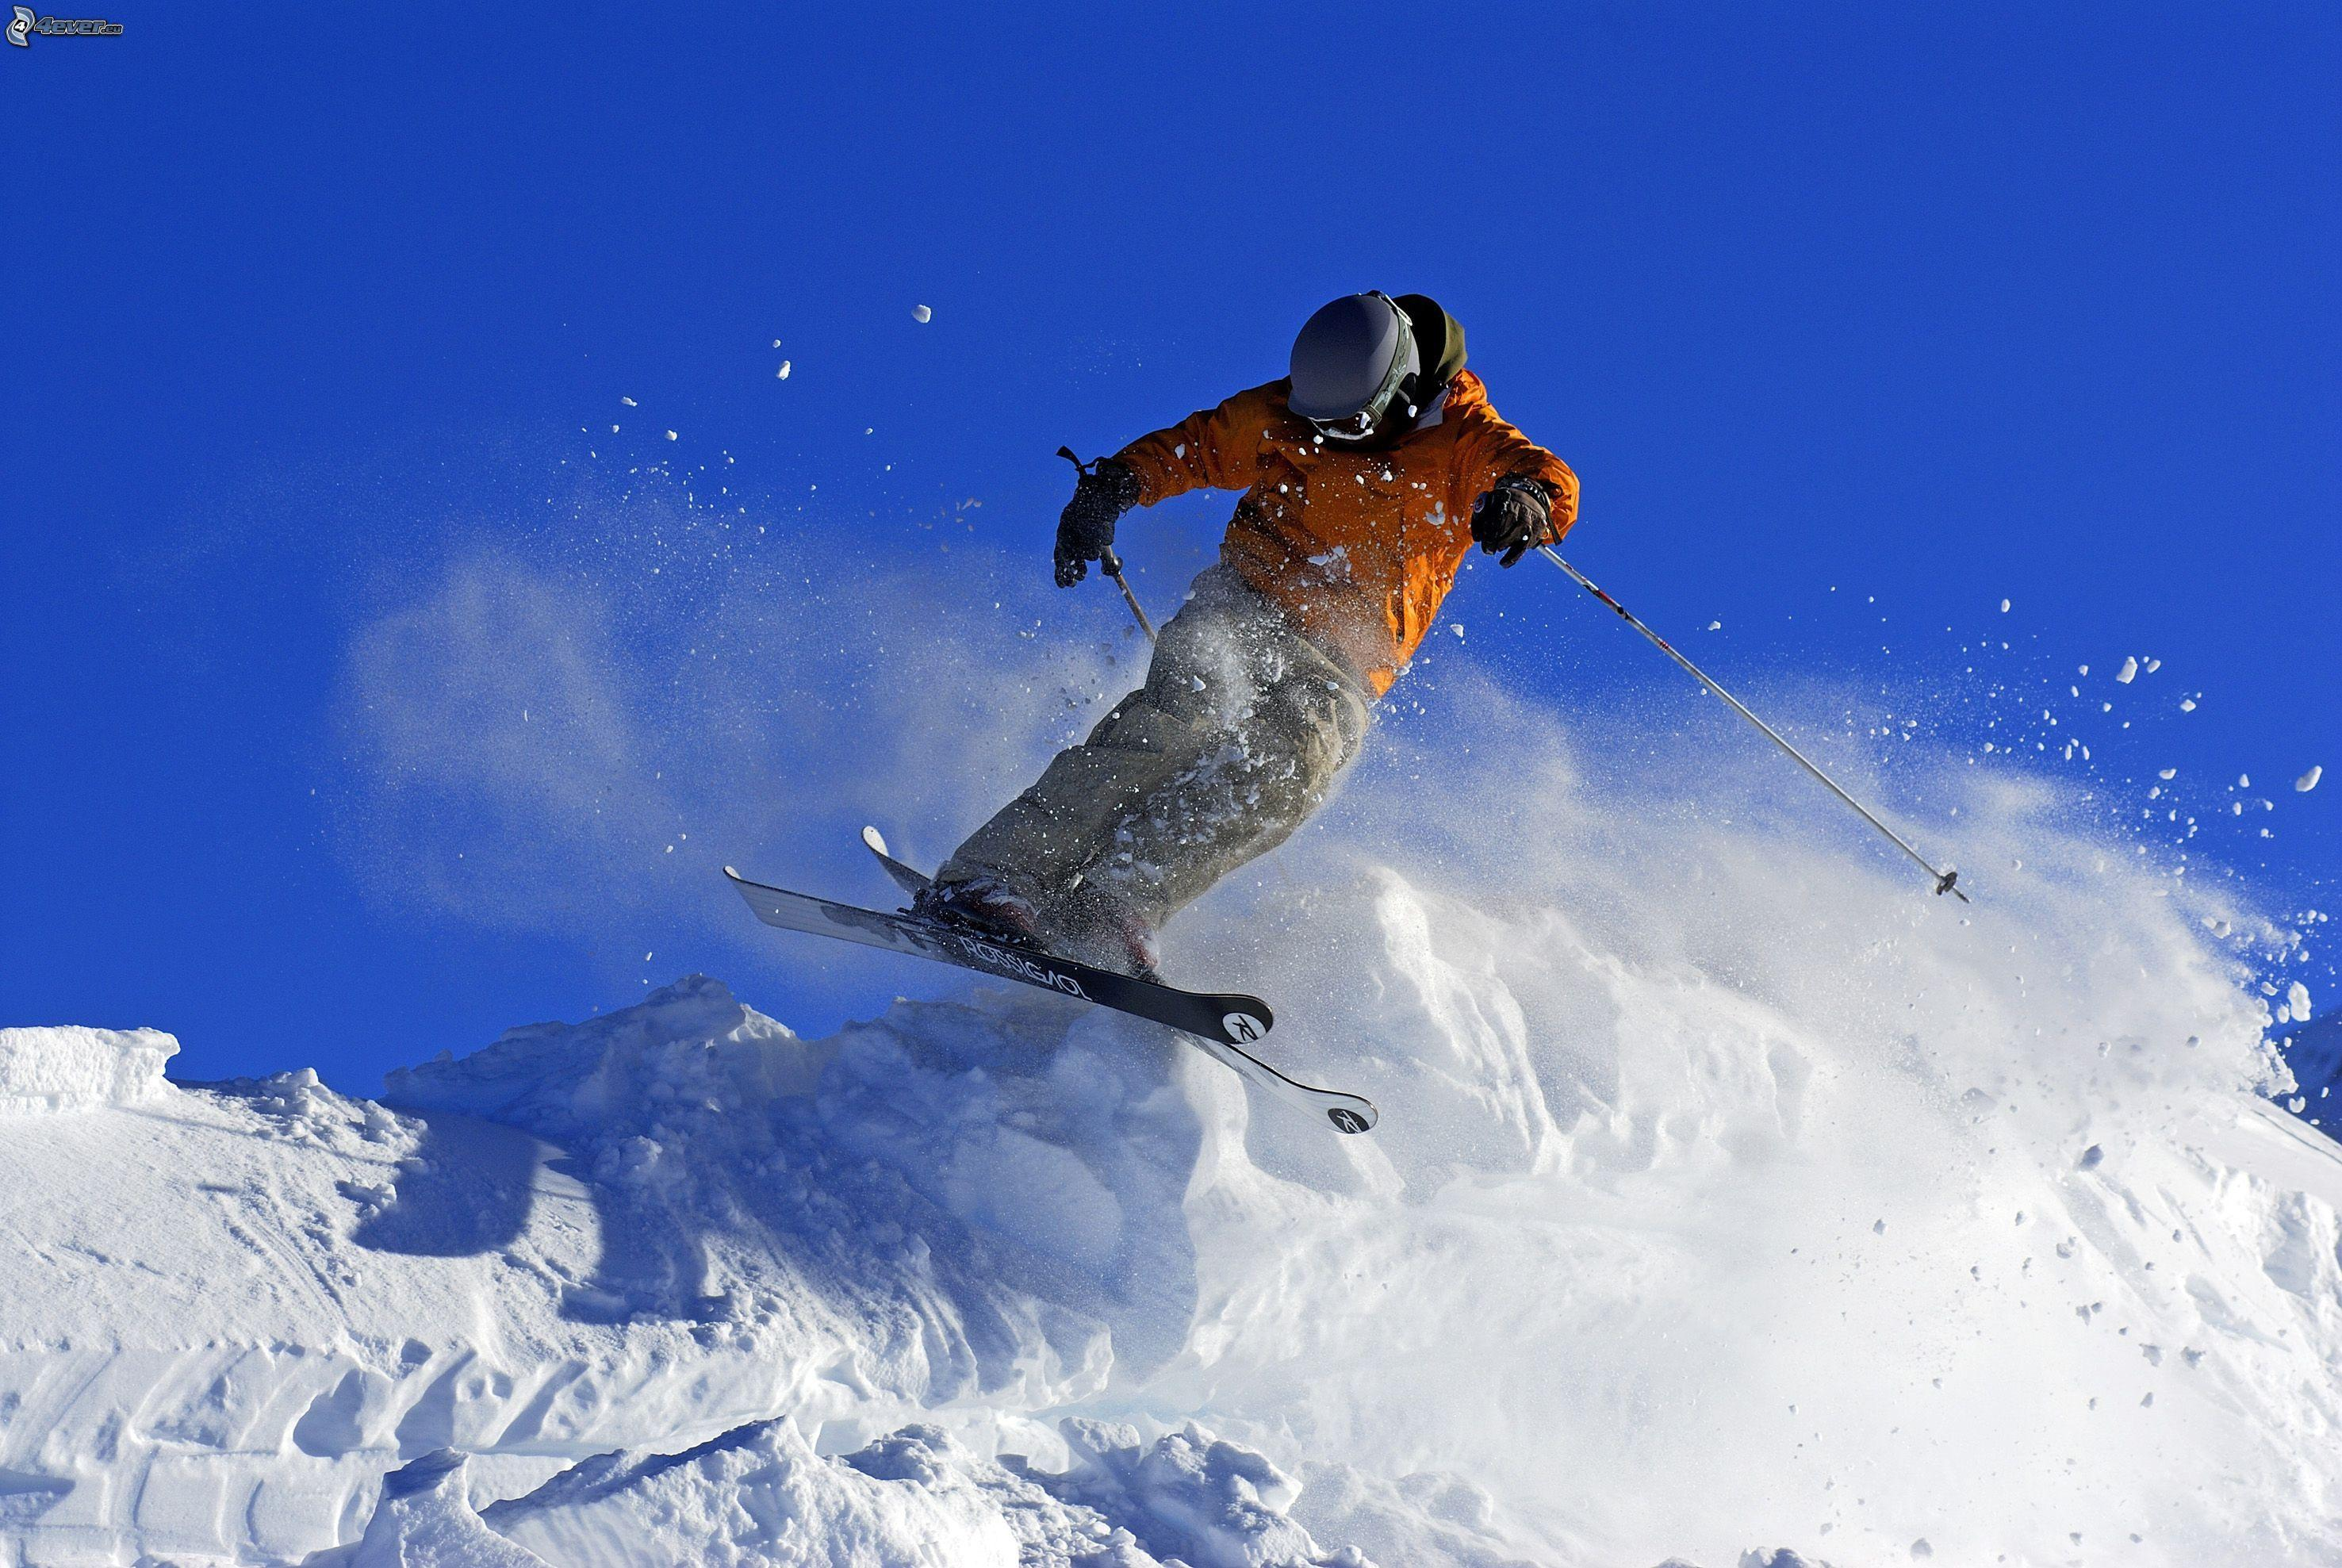Skis: (680, 775, 1425, 1158)
